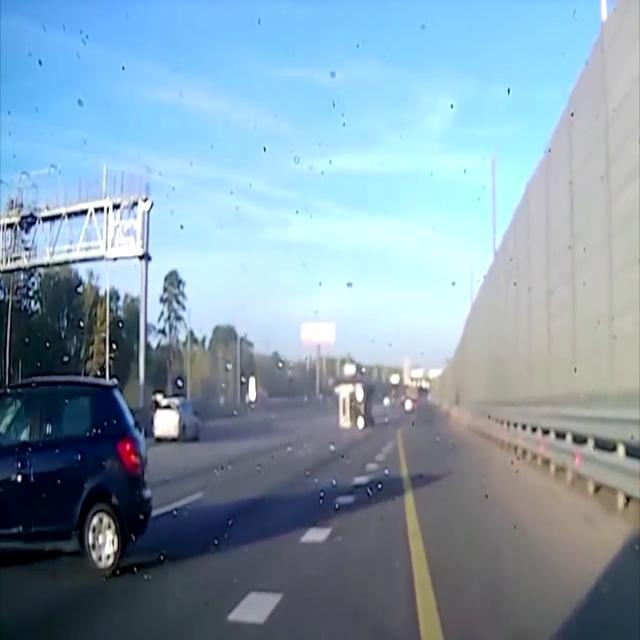normal: (129, 356, 210, 462)
